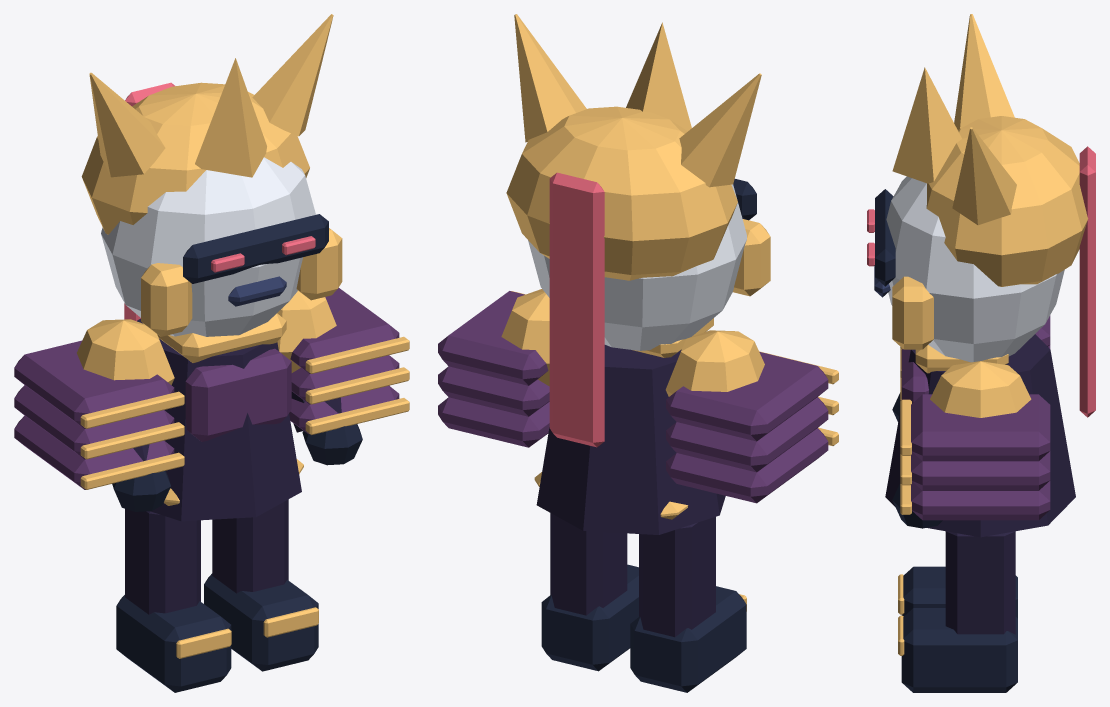
The model's file is boss.glb.
3 renders of one model, left to right at view 1: azimuth 30°, elevation 25°; view 2: azimuth 150°, elevation 25°; view 3: azimuth 270°, elevation 25°, orthographic. The views are drawn at different scales.
Visible parts, largest first — view 1: face.002, tunic.002, helmet.001, chest plate.002, leg.004, boot.004, boot.005, samurai shoulder, leg.005, visor.001, helmet crest, shoulder.004 (+22 smaller); view 2: helmet.001, tunic.002, back banner, face.002, leg.004, samurai shoulder, boot.004, leg.005, boot.005, samurai shoulder.003, samurai shoulder.002, samurai shoulder.001 (+9 smaller); view 3: helmet.001, face.002, boot.005, samurai shoulder.003, leg.005, tunic.002, shoulder.005, helmet crest, back banner, samurai shoulder.004, samurai shoulder.005, horn.003 (+8 smaller).
Boxes of the visible parts, <box> form: face.002: <box>101,157,315,336</box>; tunic.002: <box>137,318,301,521</box>; helmet.001: <box>81,82,309,234</box>; chest plate.002: <box>185,348,291,441</box>; leg.004: <box>125,508,200,614</box>; boot.004: <box>116,595,231,692</box>; boot.005: <box>204,573,318,671</box>; samurai shoulder: <box>14,340,174,428</box>; leg.005: <box>212,499,288,593</box>; visor.001: <box>183,214,328,283</box>; helmet crest: <box>195,58,266,177</box>; shoulder.004: <box>77,319,174,384</box>; helmet.001: <box>506,106,737,280</box>; tunic.002: <box>536,345,725,534</box>; back banner: <box>549,172,604,447</box>; face.002: <box>528,184,746,350</box>; leg.004: <box>639,517,715,637</box>; samurai shoulder: <box>666,352,828,441</box>; boot.004: <box>630,586,746,692</box>; leg.005: <box>550,513,627,615</box>; boot.005: <box>541,564,638,671</box>; samurai shoulder.003: <box>438,291,548,385</box>; samurai shoulder.002: <box>666,428,828,503</box>; samurai shoulder.001: <box>666,397,828,472</box>; helmet.001: <box>926,116,1088,286</box>; face.002: <box>886,176,1064,362</box>; boot.005: <box>901,608,1017,692</box>; samurai shoulder.003: <box>911,394,1050,461</box>; leg.005: <box>945,531,1015,634</box>; tunic.002: <box>885,334,1075,537</box>; shoulder.005: <box>930,361,1031,417</box>; helmet crest: <box>892,67,961,183</box>; back banner: <box>1079,146,1095,417</box>; samurai shoulder.004: <box>911,451,1050,490</box>; samurai shoulder.005: <box>911,481,1050,520</box>; horn.003: <box>952,127,1016,225</box>.
Size of the model in its own units: 0.78 by 1.41 by 0.4915.
